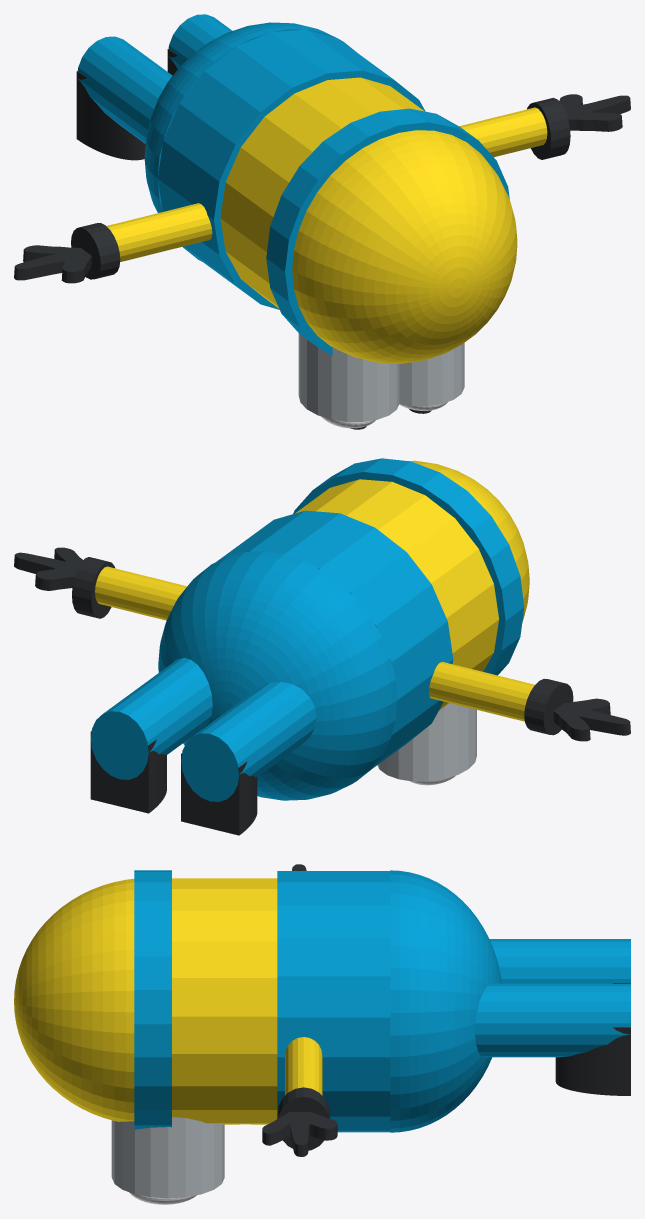
File: minion.obj
3 renders of one model, top to bottom at view 1: azimuth 30°, elevation 25°; view 2: azimuth 150°, elevation 25°; view 3: azimuth 270°, elevation 25°, orthographic.
Parts seen in each view (by area): view 1: group_0_16768282, group_0_40919, group_0_2829873, group_0_12568524; view 2: group_0_40919, group_0_16768282, group_0_2829873, group_0_12568524; view 3: group_0_40919, group_0_16768282, group_0_12568524, group_0_2829873.
Part boxes in pixels (bbox=[...]): group_0_16768282: bbox=[106, 77, 547, 363]; group_0_40919: bbox=[77, 14, 509, 355]; group_0_2829873: bbox=[14, 49, 630, 429]; group_0_12568524: bbox=[298, 333, 464, 421]; group_0_40919: bbox=[90, 458, 524, 801]; group_0_16768282: bbox=[95, 460, 534, 721]; group_0_2829873: bbox=[14, 547, 630, 835]; group_0_12568524: bbox=[377, 703, 476, 781]; group_0_40919: bbox=[134, 870, 630, 1132]; group_0_16768282: bbox=[14, 878, 322, 1124]; group_0_12568524: bbox=[111, 1117, 224, 1198]; group_0_2829873: bbox=[262, 864, 630, 1156].
Size of the model in its own units: 95 by 44 by 82.
